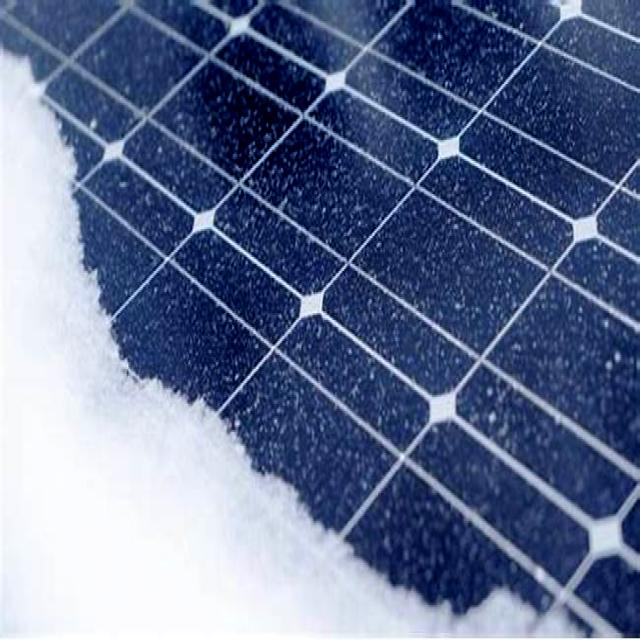panel: (0, 25, 84, 259), (162, 348, 256, 536), (335, 500, 453, 640), (255, 424, 335, 624), (466, 557, 592, 640), (88, 266, 160, 406)
